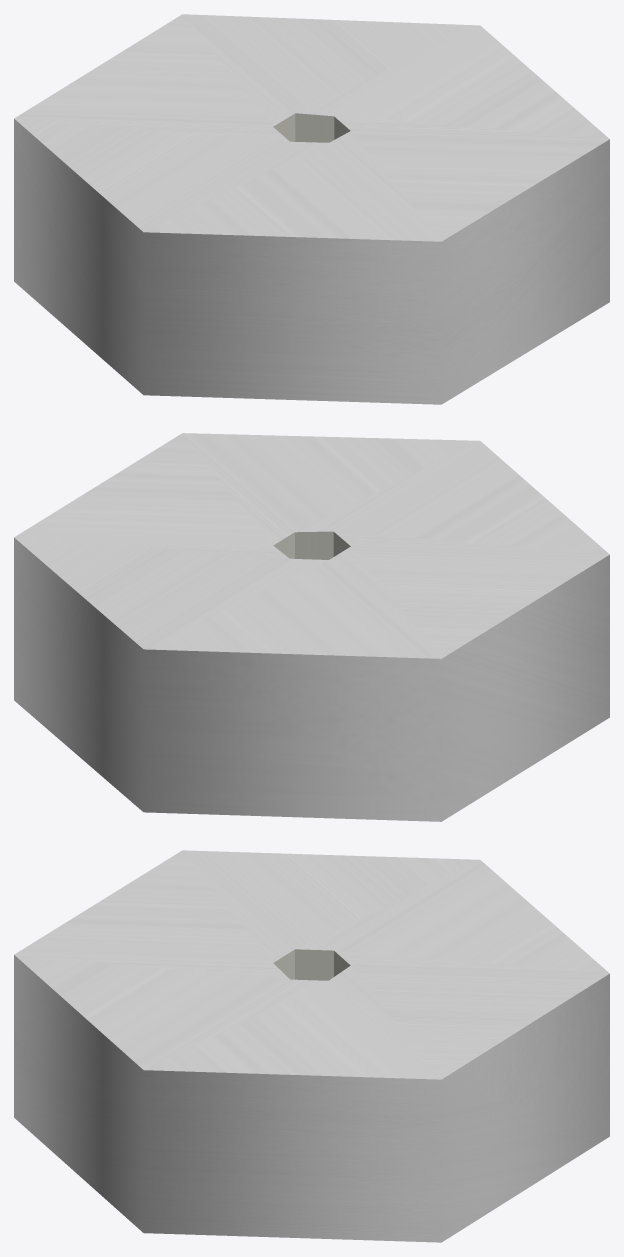
The model's file is SM_消解罐_筛子01.FBX.
3 renders of one model, top to bottom at view 1: azimuth 30°, elevation 25°; view 2: azimuth 150°, elevation 25°; view 3: azimuth 270°, elevation 25°, orthographic.
Visible parts, largest first — view 1: SM_消解罐_筛子01; view 2: SM_消解罐_筛子01; view 3: SM_消解罐_筛子01.
Boxes of the visible parts, bbox=[...] form: SM_消解罐_筛子01: bbox=[14, 14, 609, 404]; SM_消解罐_筛子01: bbox=[14, 433, 609, 821]; SM_消解罐_筛子01: bbox=[14, 850, 609, 1242].
Size of the model in its own units: 27.32 by 9.29 by 30.23.
